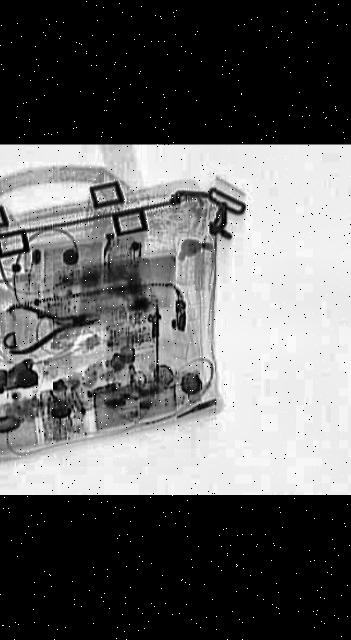Pliers: (0, 293, 108, 353)
